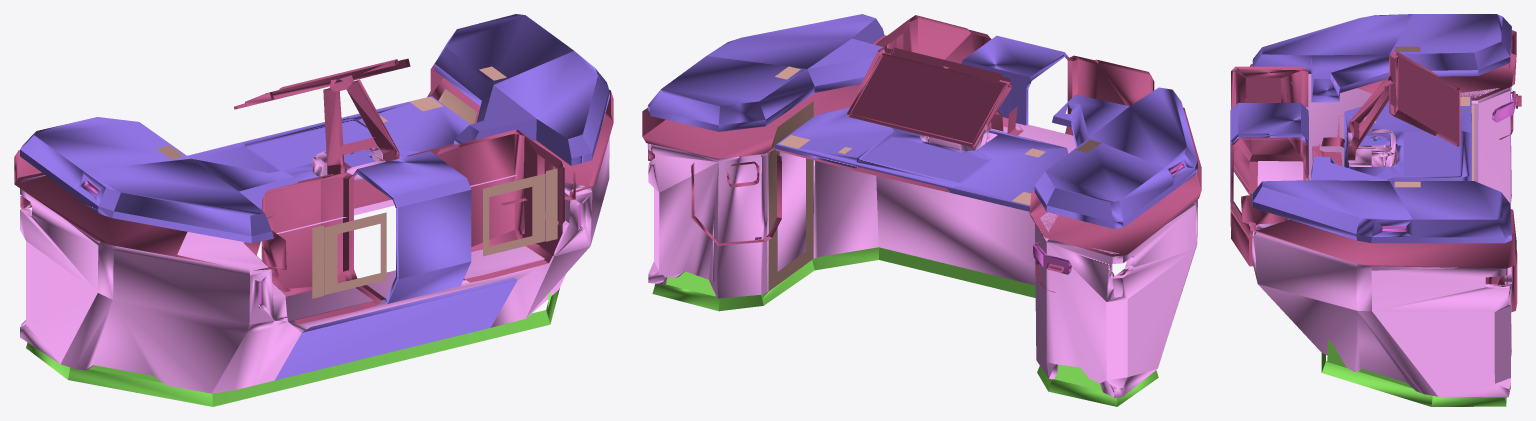
Rendered from console_desk_2_security_a.glb.
The picture shows the model from 3 angles, left to right: view 1: azimuth 30°, elevation 25°; view 2: azimuth 150°, elevation 25°; view 3: azimuth 270°, elevation 25°; orthographic projection. The views are drawn at different scales.
Bounding box in the file's own units: 2.52 × 1.22 × 1.42.
